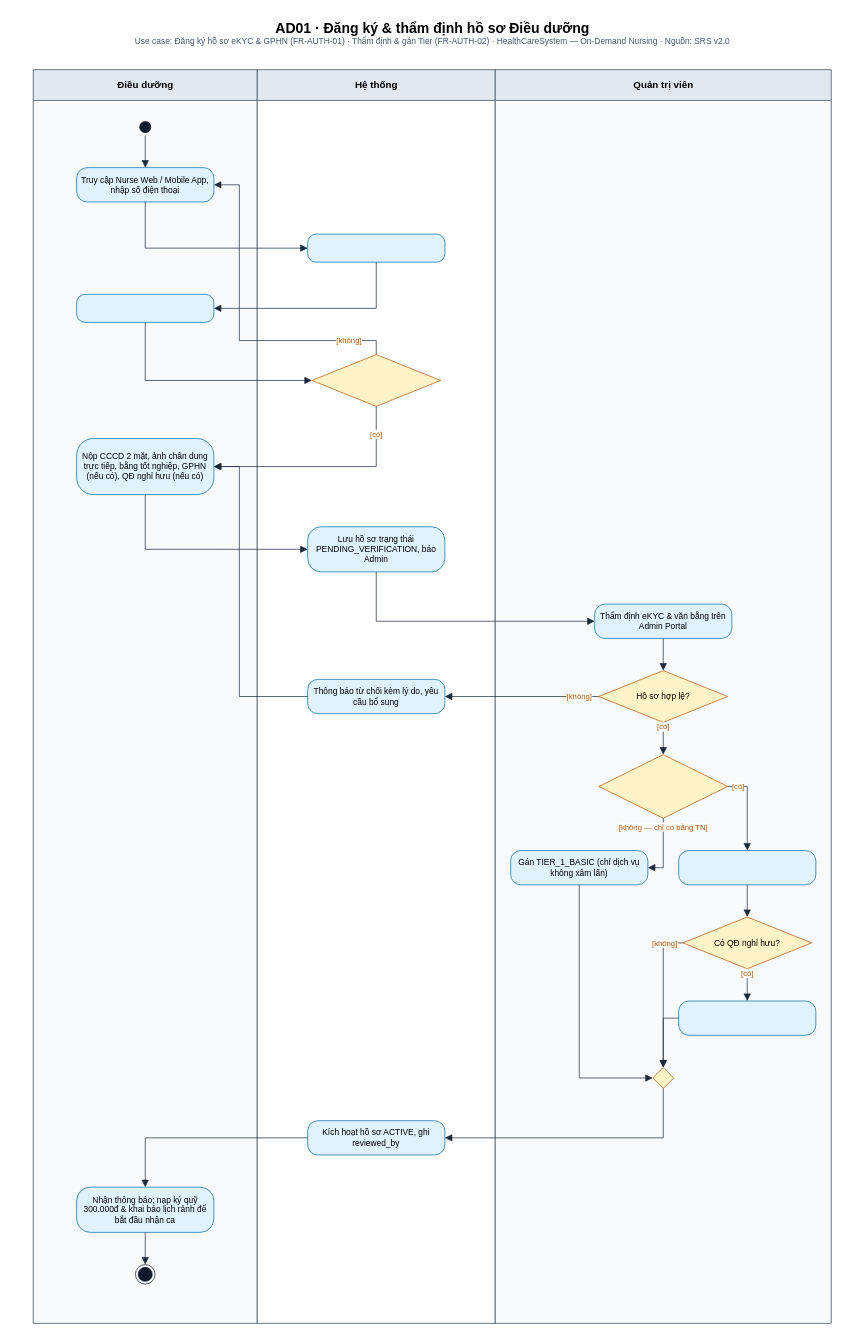
The diagram is 864 pixels wide and 1336 high, and some of its shapes have lost their labels. The centre of each missing label's shape, as x and y in pixels:
"GPHN còn hiệu lực & đúng phạm vi chuyên môn?" goes at (663,786).
"Gán TIER_2_SPECIALIST (mở dịch vụ xâm lấn)" goes at (747,867).
"Gắn huy hiệu 'Chuyên gia hưu trí'" goes at (747,1017).
"Gửi mã OTP qua SMS" goes at (376,247).
"Nhập mã OTP" goes at (145,308).
"OTP hợp lệ?" goes at (376,380).
